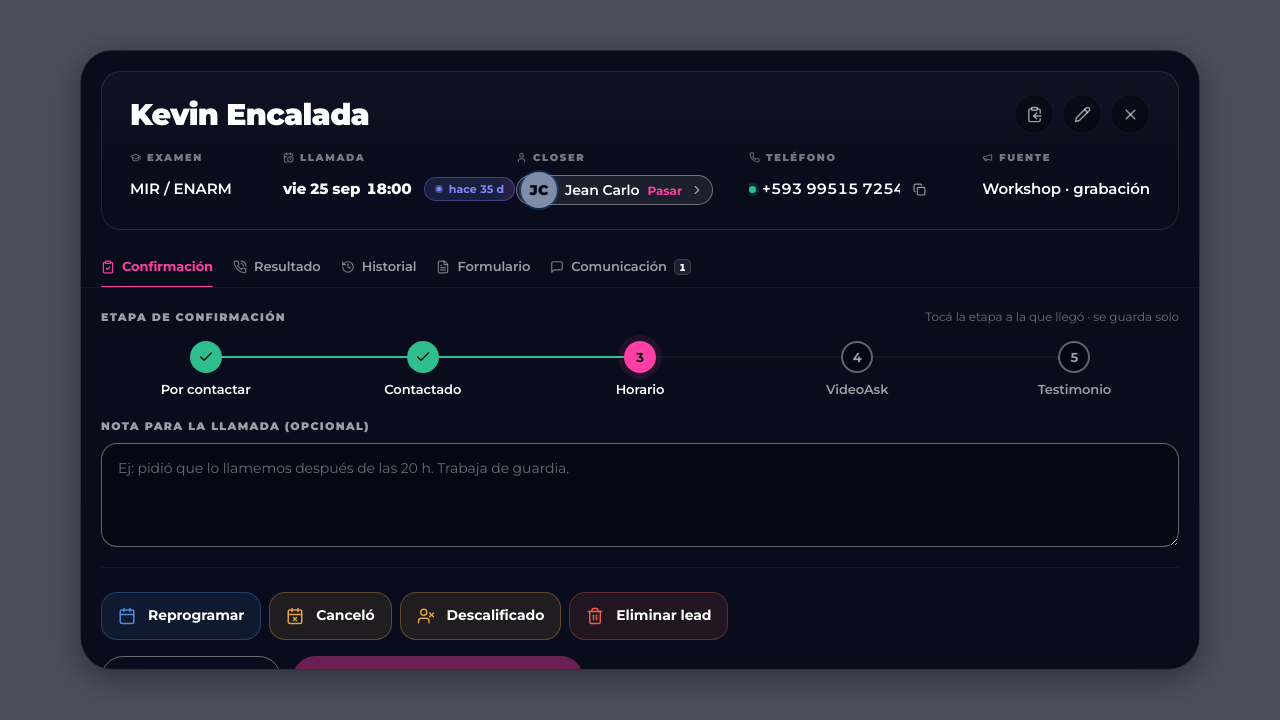
Test: la fuente en modo edición › una fuente que ya no se ofrece se lee con su etiqueta, no con la clave
This screenshot has width=1280, height=720.
Check: the tab "Confirmación" is shown, box [101,246,213,287]
Click the button named "Editar los datos del lead": (1082, 114) [1062,94,1102,134]
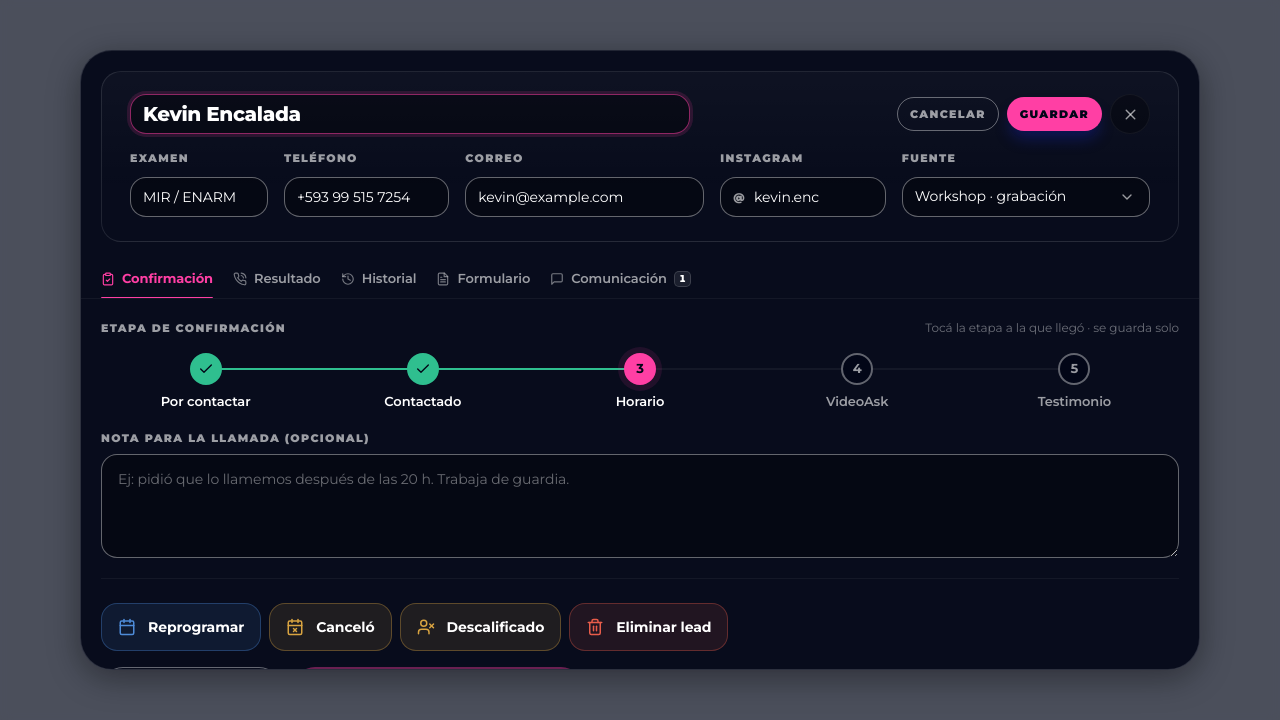
Check: the dropdown labelled "Fuente" shows "Workshop · grabación", box [915,178,1137,216]
